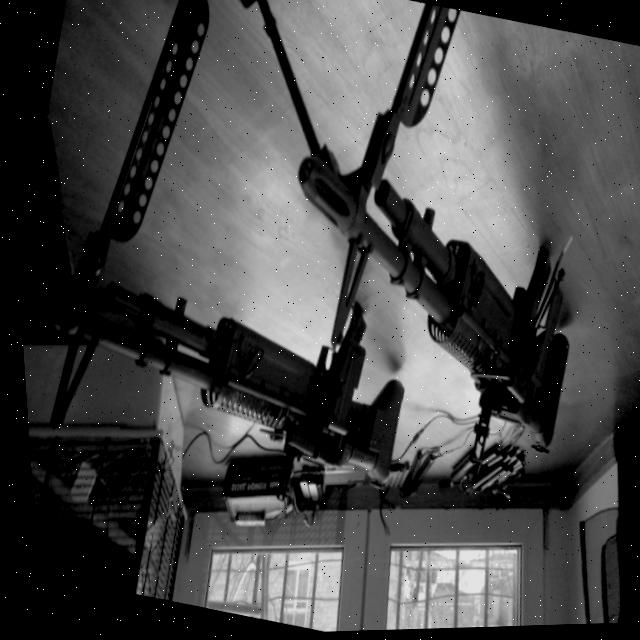firearm: (12, 225, 422, 516), (241, 146, 602, 471)
grenade: (398, 451, 443, 508), (471, 461, 512, 506), (438, 446, 475, 493), (472, 438, 501, 472), (496, 458, 523, 491)
